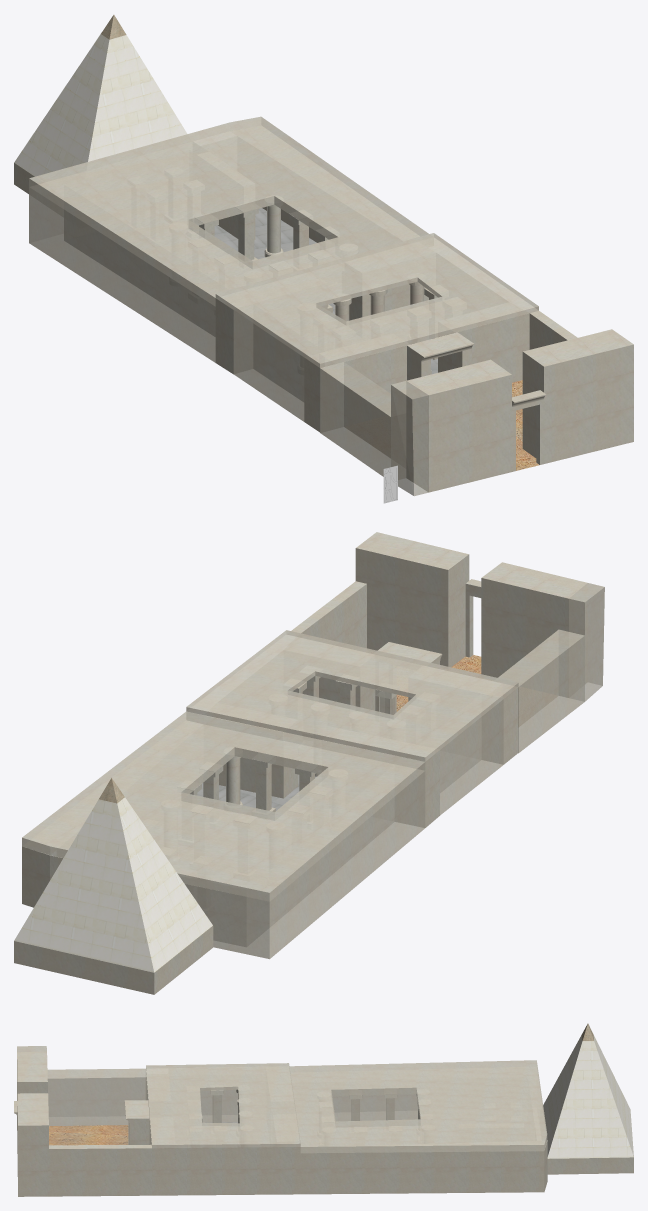
Rendered from Huynefer_Nebnefer_ST217.glb.
3 renders of one model, top to bottom at view 1: azimuth 30°, elevation 25°; view 2: azimuth 150°, elevation 25°; view 3: azimuth 270°, elevation 25°, orthographic. The views are drawn at different scales.
Visible parts, largest first — view 1: Mesh27 G_217_1 Model, Mesh28 G_217_1 Model, Mesh16 Square_Column_2_11 G_217_1 Model, Mesh7 Round_Column_1_3 G_217_1 Model; view 2: Mesh27 G_217_1 Model, Mesh28 G_217_1 Model, Mesh19 Square_Column_2_12 G_217_1 Model, Mesh9 Round_Column_1_4 G_217_1 Model; view 3: Mesh27 G_217_1 Model, Mesh28 G_217_1 Model, Mesh1 Square_Column_2_1 G_217_1 Model, Mesh24 Square_Column_2_17 G_217_1 Model, Mesh6 Square_Column_2_4 G_217_1 Model.
Part boxes in pixels (x1,y1,x2,y2): Mesh27 G_217_1 Model: [29, 116, 633, 496]; Mesh28 G_217_1 Model: [14, 15, 187, 193]; Mesh16 Square_Column_2_11 G_217_1 Model: [234, 202, 258, 260]; Mesh7 Round_Column_1_3 G_217_1 Model: [264, 195, 283, 257]; Mesh27 G_217_1 Model: [22, 532, 604, 959]; Mesh28 G_217_1 Model: [14, 778, 213, 994]; Mesh19 Square_Column_2_12 G_217_1 Model: [251, 753, 275, 811]; Mesh9 Round_Column_1_4 G_217_1 Model: [225, 747, 242, 805]; Mesh27 G_217_1 Model: [14, 1046, 547, 1196]; Mesh28 G_217_1 Model: [543, 1023, 633, 1174]; Mesh1 Square_Column_2_1 G_217_1 Model: [210, 1085, 223, 1122]; Mesh24 Square_Column_2_17 G_217_1 Model: [384, 1089, 397, 1120]; Mesh6 Square_Column_2_4 G_217_1 Model: [349, 1090, 362, 1120].
Size of the model in its own units: 12.15 by 8.05 by 35.52.
Materials: 8 (7 with a texture image).
